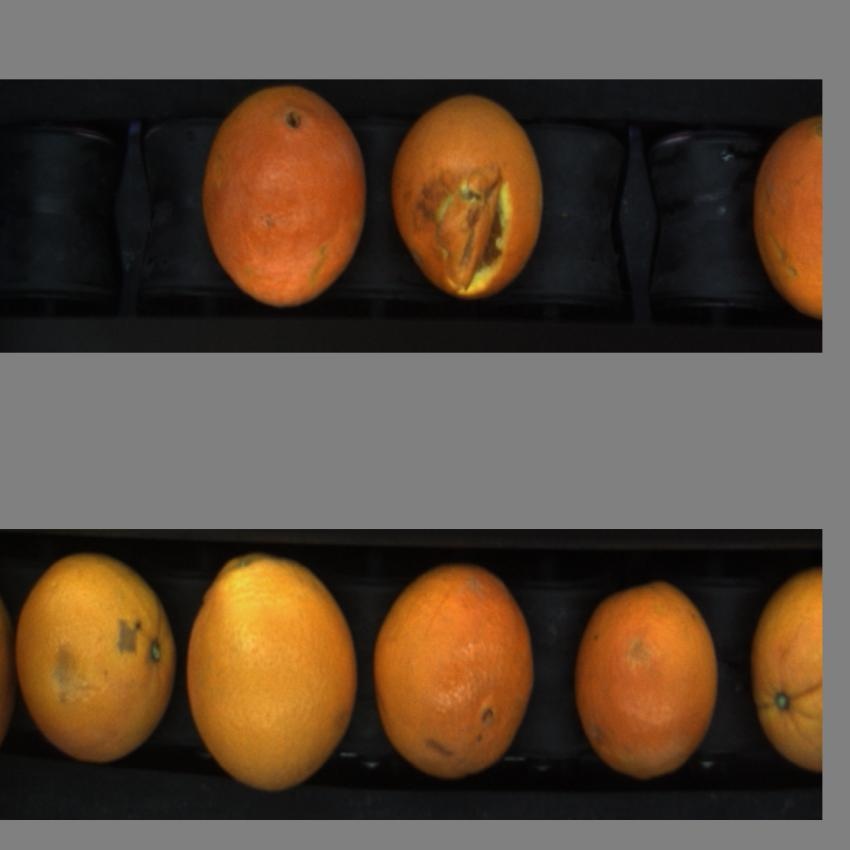Buen estado: (177, 552, 362, 796), (197, 79, 372, 318), (367, 553, 543, 787), (11, 545, 180, 781), (572, 576, 728, 784), (742, 107, 824, 324), (747, 563, 823, 791)
Mal estado: (387, 88, 552, 311)
